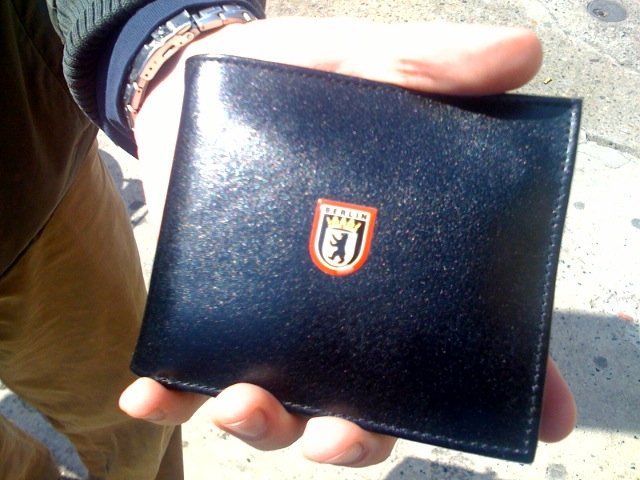monedero: (128, 50, 585, 465)
